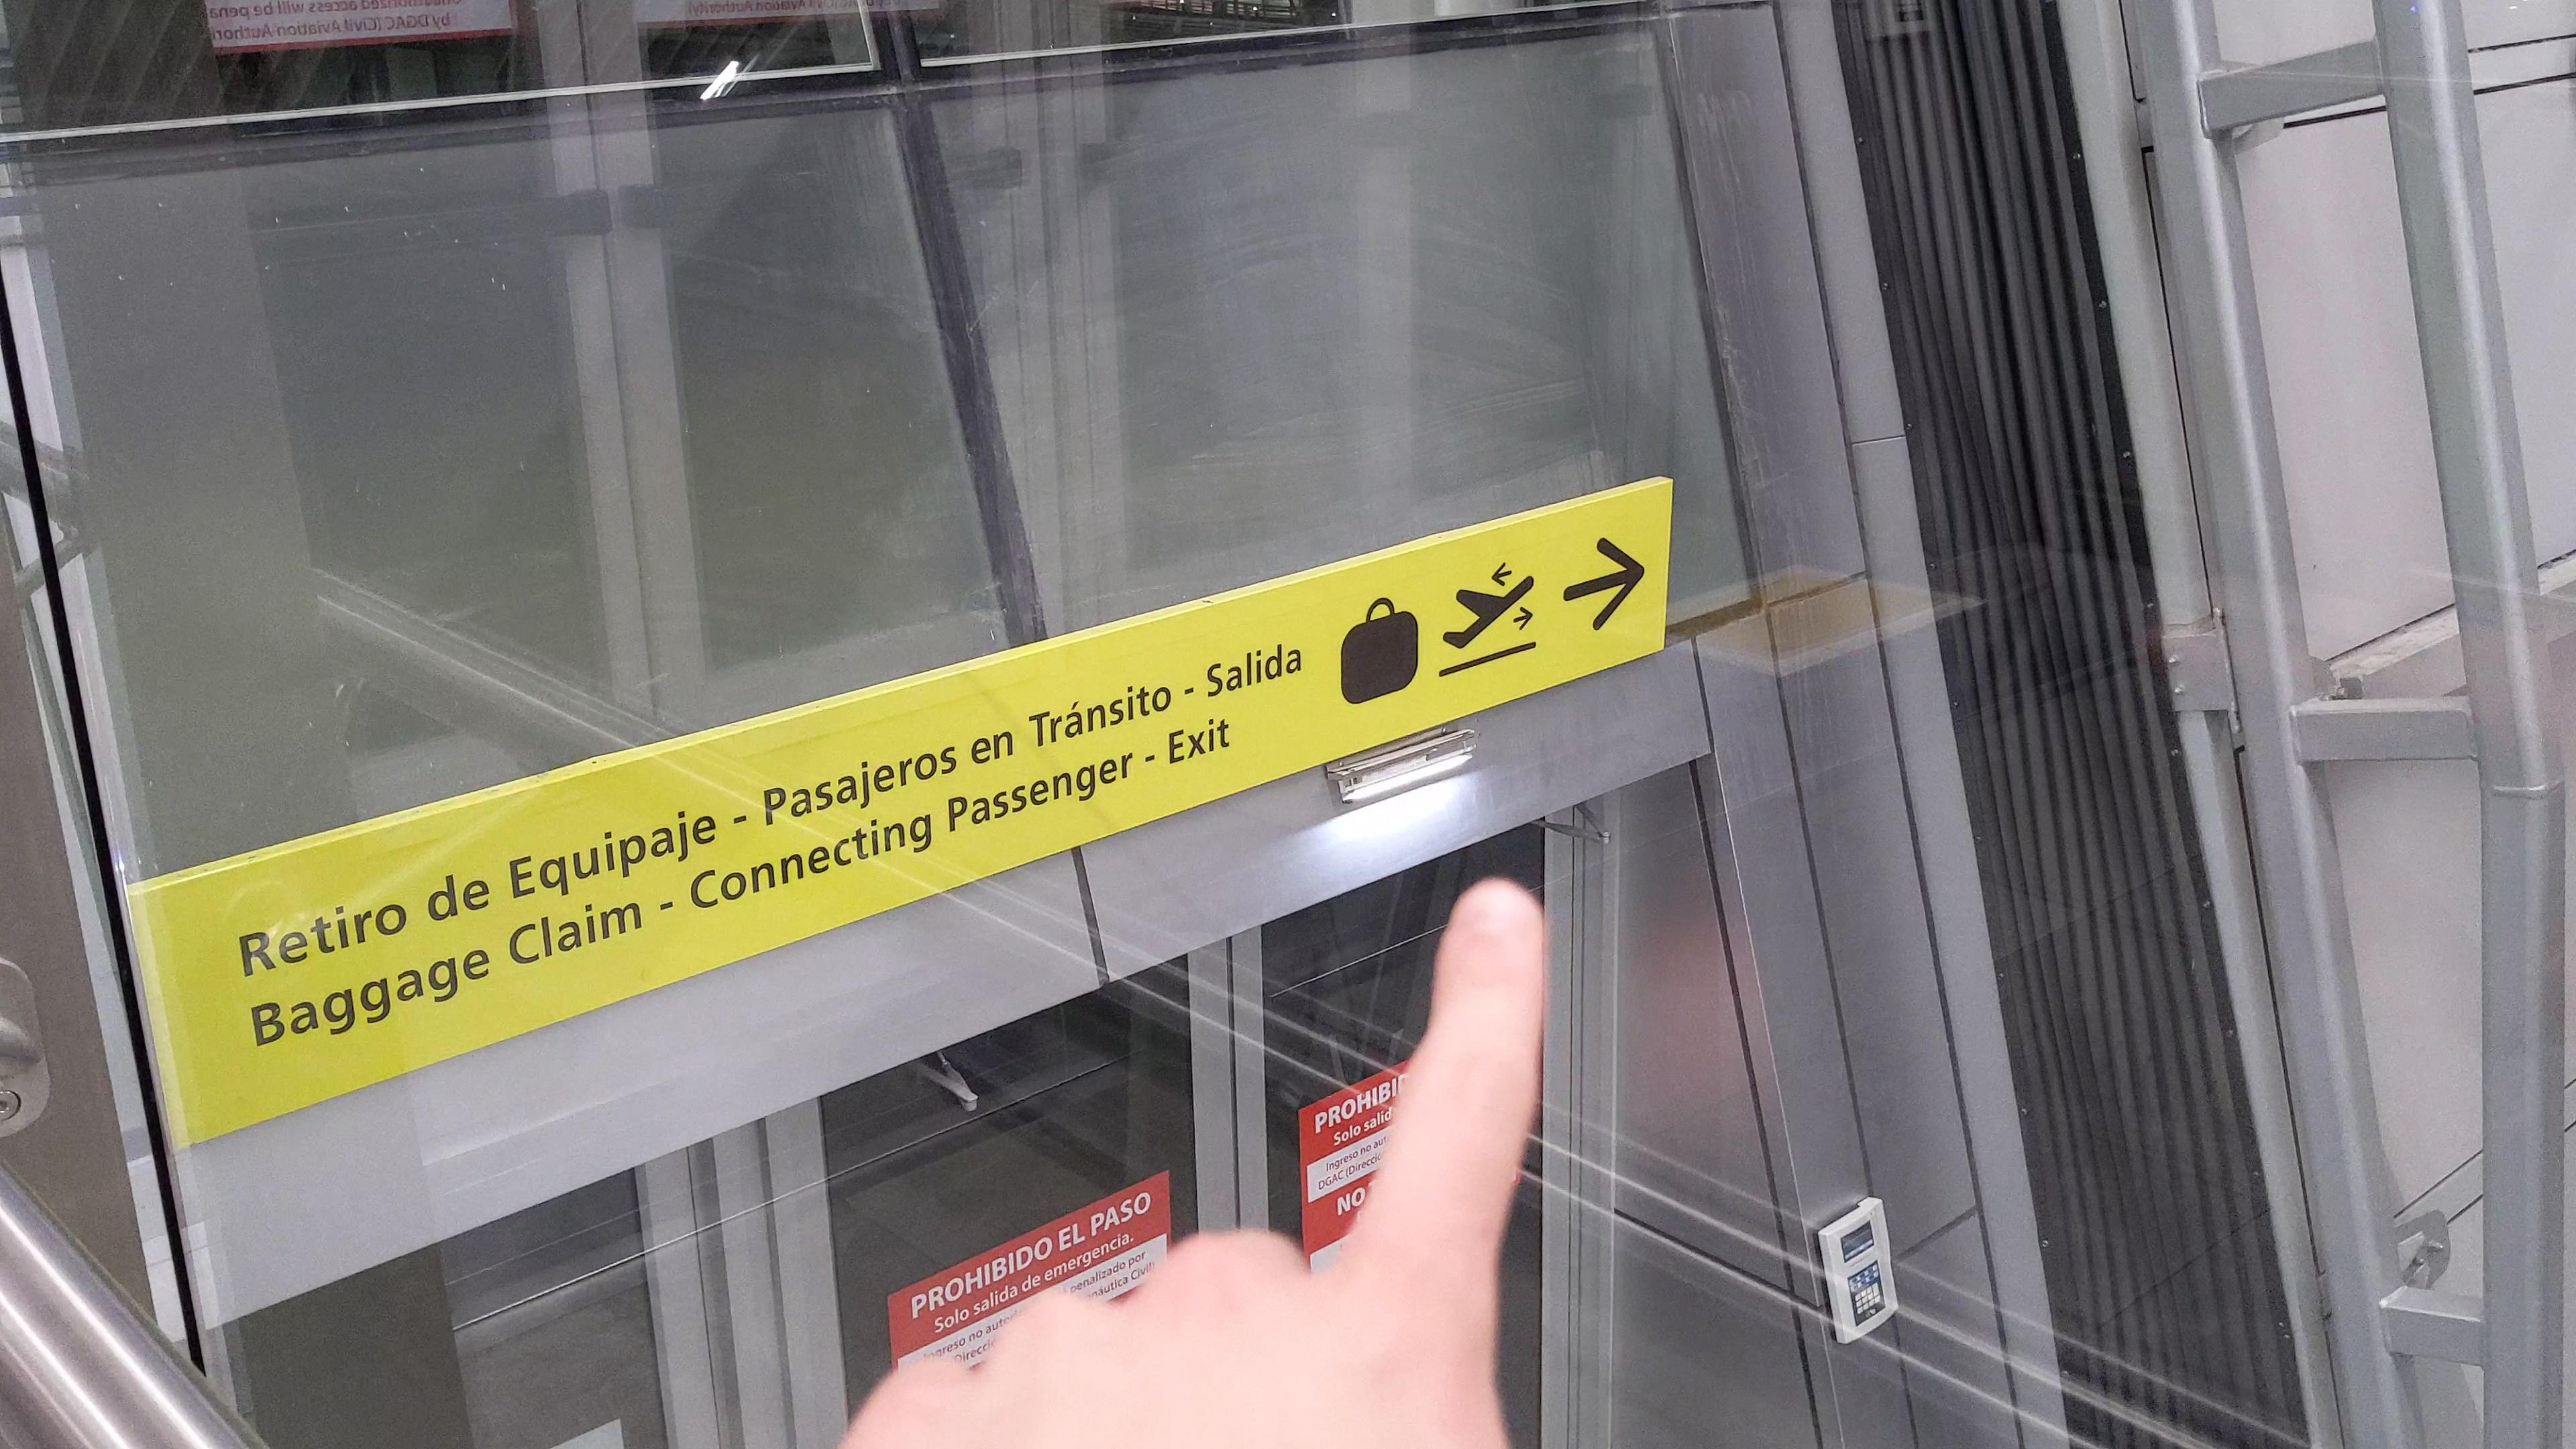airplane symbol: (1438, 561, 1537, 653)
baggage claim: (1336, 593, 1421, 706)
thin up arrow: (1555, 534, 1647, 639)
